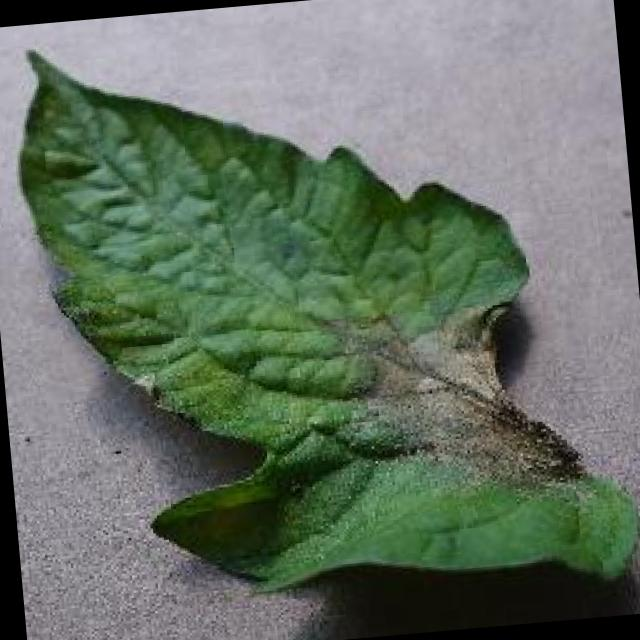Tomato_Late_Blight: (318, 275, 603, 508)
